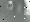person: (25, 1, 30, 16), (9, 3, 13, 11)
